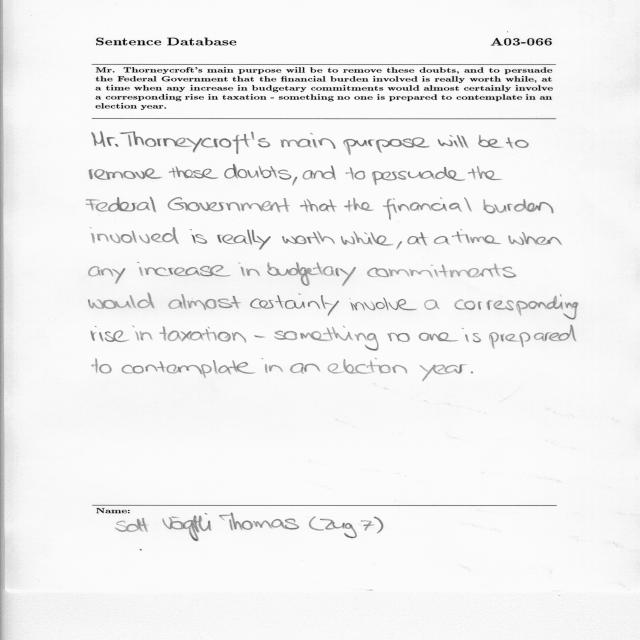word: (120, 132, 271, 154), (454, 294, 578, 320), (274, 325, 379, 351), (121, 360, 256, 378), (267, 263, 356, 287), (489, 325, 576, 349), (367, 264, 516, 278), (383, 197, 472, 220), (250, 293, 339, 316), (168, 197, 290, 213), (372, 167, 465, 185), (343, 137, 429, 155), (159, 326, 246, 343), (90, 228, 179, 244), (328, 358, 408, 374), (168, 294, 242, 310), (217, 229, 271, 250), (139, 265, 231, 277), (224, 164, 292, 180), (483, 199, 554, 214), (89, 293, 155, 309), (86, 197, 156, 212), (349, 297, 417, 311), (280, 133, 336, 149), (89, 168, 162, 180), (420, 364, 467, 381), (341, 231, 393, 246), (452, 229, 501, 244), (508, 232, 562, 245), (282, 231, 335, 244), (169, 166, 219, 179), (89, 266, 125, 284), (91, 326, 130, 342), (303, 165, 336, 180), (300, 199, 337, 212), (468, 167, 502, 181), (438, 135, 469, 148), (92, 132, 118, 147), (344, 198, 373, 211), (419, 333, 459, 342), (478, 135, 504, 148), (132, 325, 153, 341), (261, 358, 283, 373), (290, 363, 320, 374), (92, 359, 112, 374), (407, 232, 428, 246), (238, 263, 260, 276), (462, 328, 481, 343), (346, 167, 366, 180), (190, 229, 207, 244), (506, 138, 529, 149), (387, 333, 410, 342), (424, 299, 440, 310), (434, 236, 450, 245), (293, 177, 298, 186), (397, 242, 402, 250), (254, 335, 265, 338), (471, 371, 473, 374)
